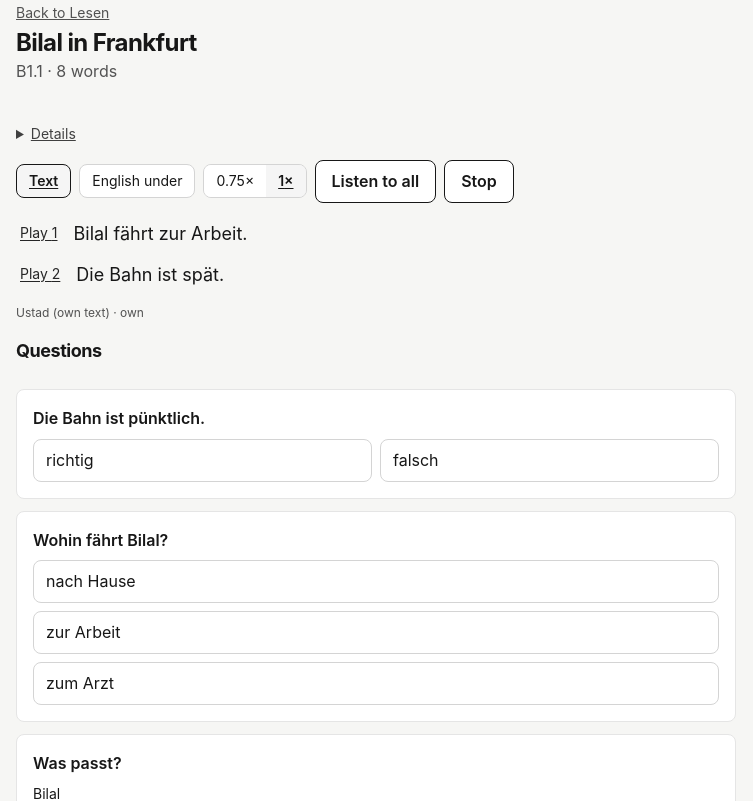
it: Reader › interlinear English is off by default and toggles on
Expected: the heading "Bilal in Frankfurt" is shown, left=16, top=27, right=197, bottom=59
Expected: the text "Bilal goes to work." is not shown
Click the button "English under".
click(137, 181)  # box left=79, top=164, right=196, bottom=198
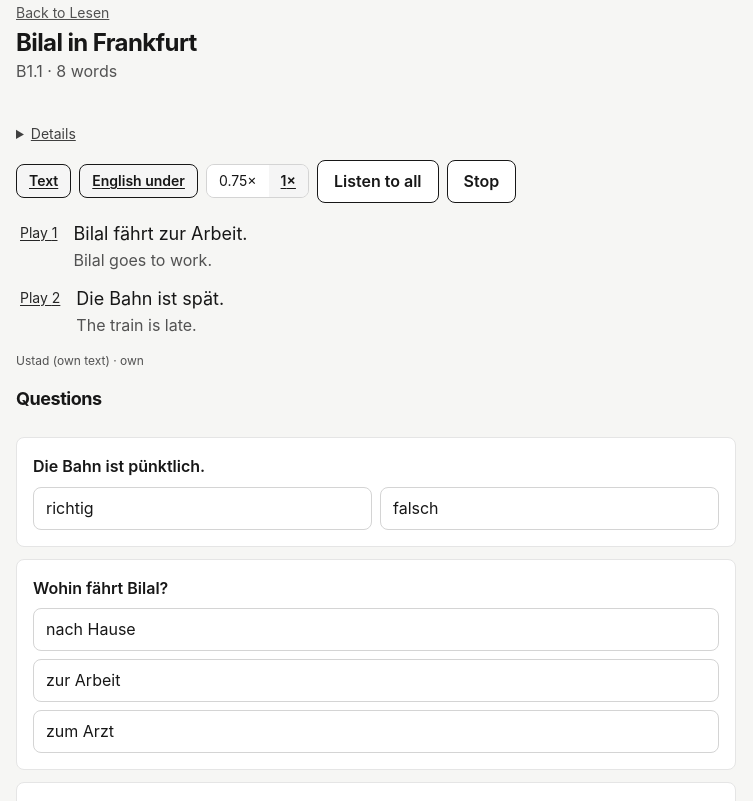
Expected: the text "Bilal goes to work." is shown, left=74, top=250, right=212, bottom=270
Expected: the text "The train is late." is shown, left=76, top=315, right=197, bottom=335
